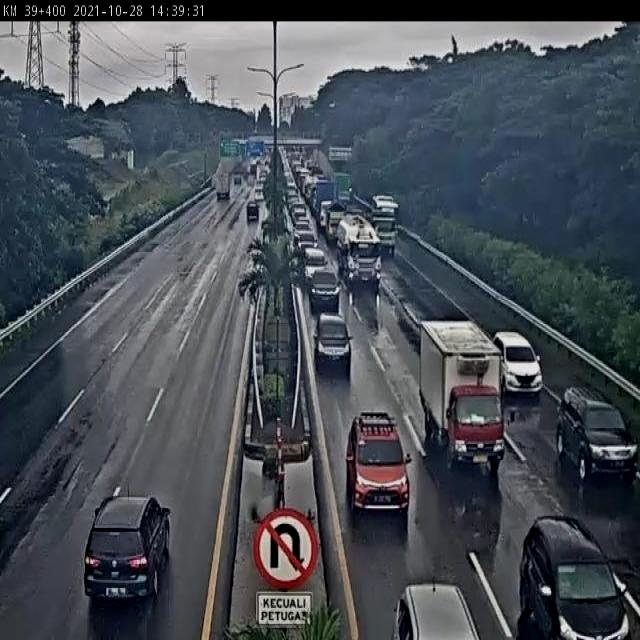Bus: (371, 193, 400, 220)
Car: (519, 514, 632, 640), (84, 496, 171, 601), (553, 382, 640, 480), (345, 410, 412, 516), (392, 582, 485, 638), (492, 330, 543, 394), (314, 312, 352, 374), (307, 263, 341, 312), (302, 246, 328, 280), (297, 229, 319, 256), (293, 221, 314, 244), (296, 214, 312, 224)
Truck: (418, 318, 503, 463), (335, 214, 381, 289), (315, 179, 339, 235), (370, 209, 398, 256), (324, 200, 349, 246), (332, 171, 354, 206), (216, 170, 230, 201), (247, 198, 260, 222), (233, 172, 243, 185), (249, 161, 257, 177), (247, 171, 254, 184)
Van: (254, 185, 265, 202)
